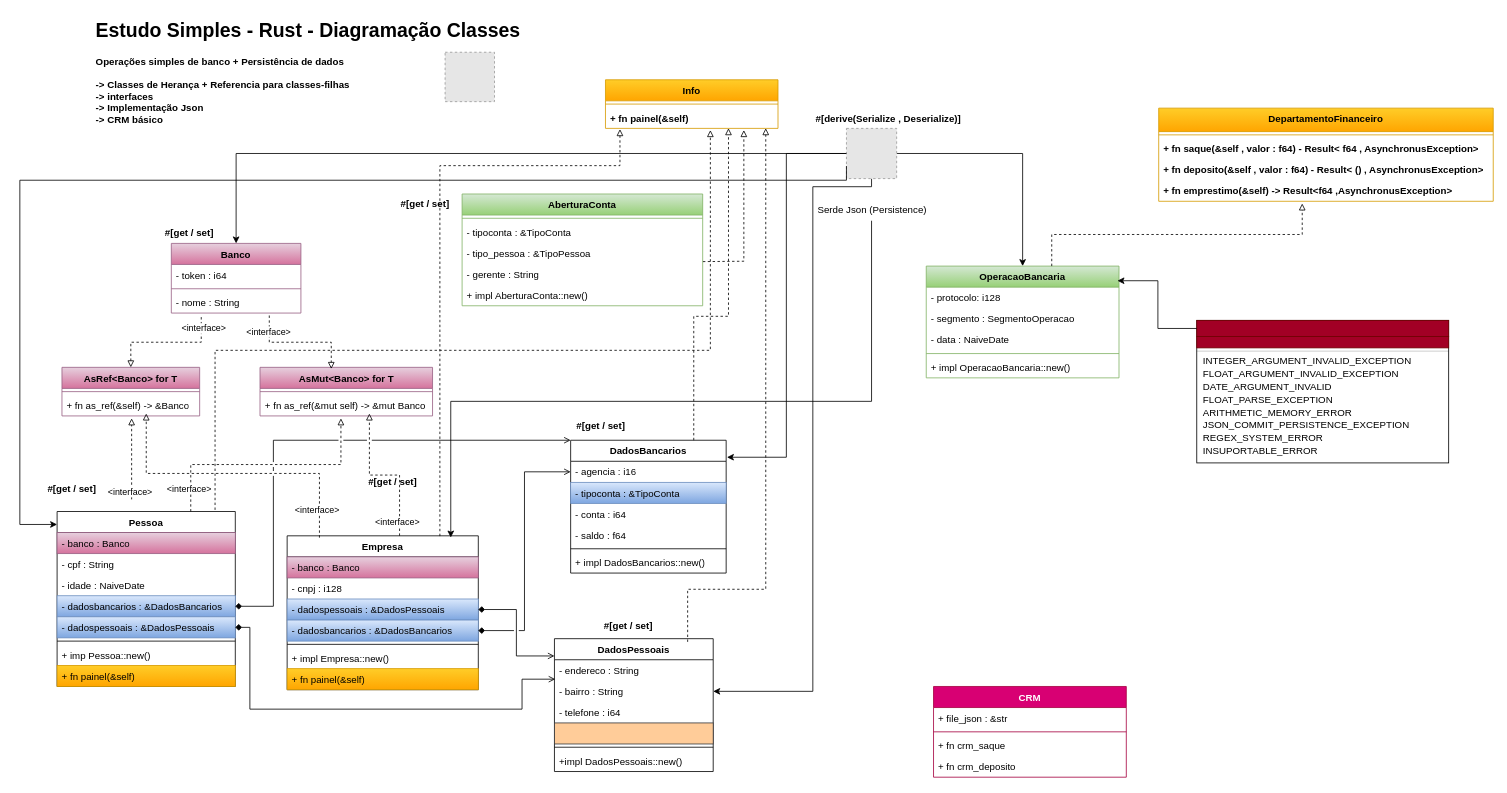
The diagram is 1507 pixels wide and 793 high, and some of its shapes have lost their labels. Grey dashed boxes stand in for pictures. The shapes that lost their labels are listed below. From the top down, each one's centre as x and y in pixels, then its label:
At point (1322, 328): "<<enumeration>>".
At point (1322, 342): "AsynchronusException".
At point (633, 733): "- rendafinanceira : f64".
